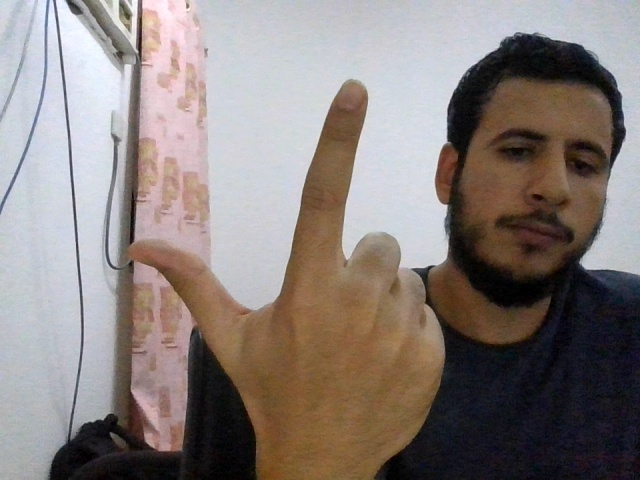Two: (127, 78, 444, 480)
